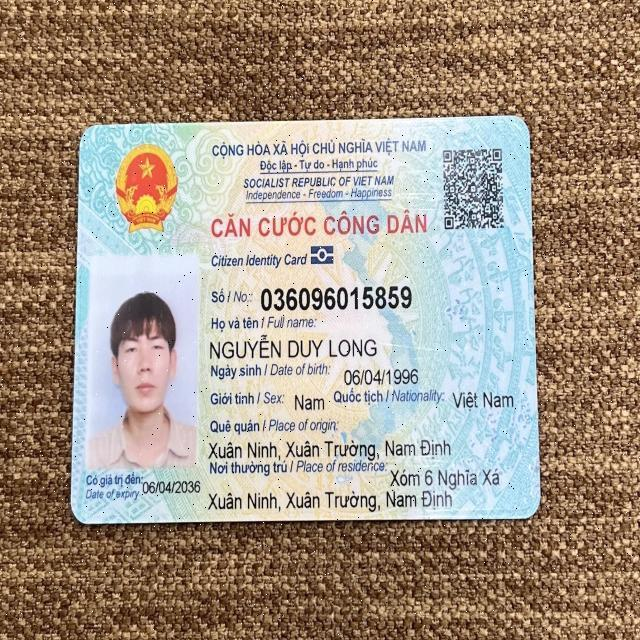current_place: (204, 487, 457, 511), (383, 460, 507, 490)
dob: (341, 362, 424, 389)
expire_date: (142, 479, 204, 498)
gender: (291, 392, 330, 414)
id: (257, 281, 419, 314)
name: (205, 332, 383, 361)
nationality: (448, 384, 517, 411)
origin_place: (208, 434, 451, 460)
